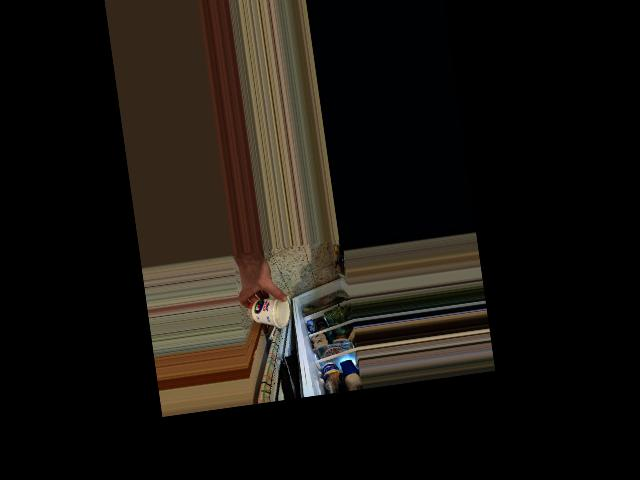cotage: (249, 292, 290, 330)
